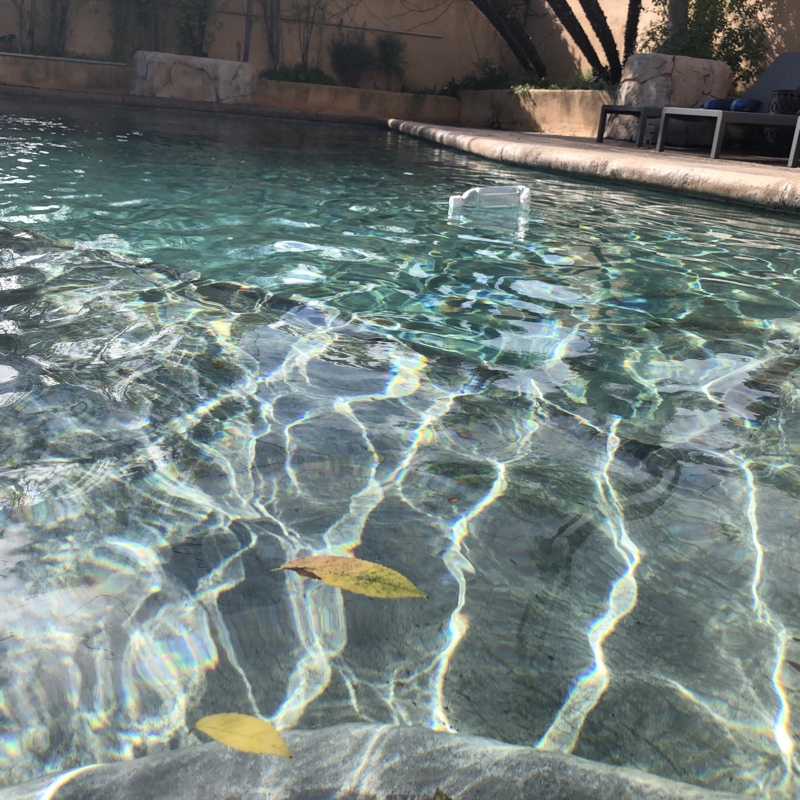Plastic Bottle: (446, 178, 534, 224)
